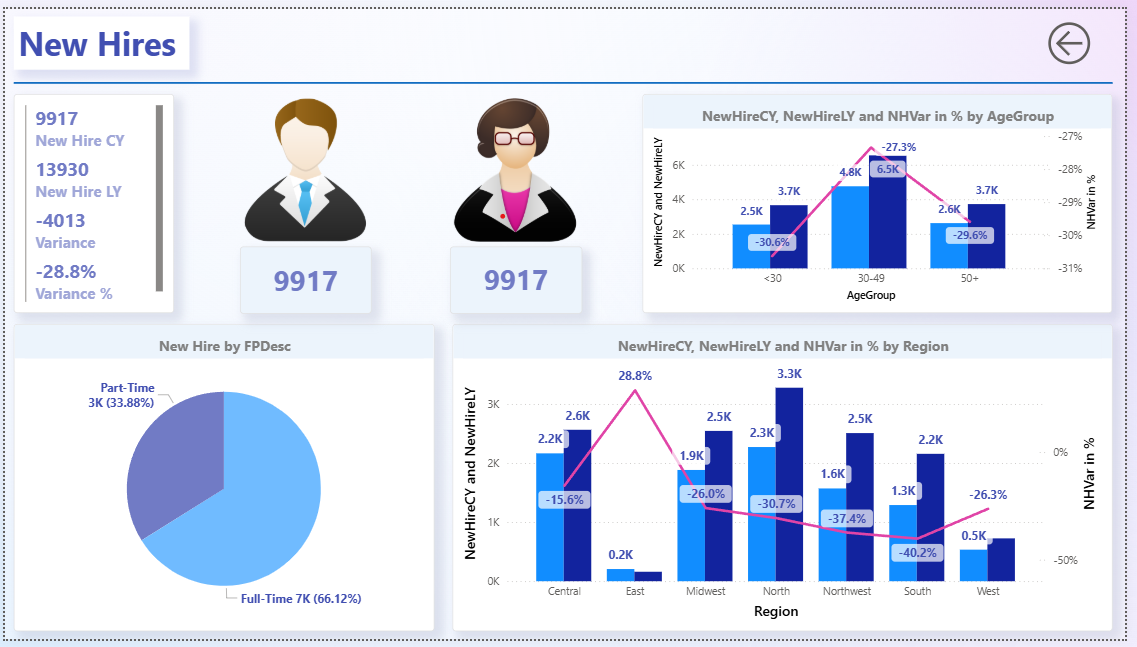

The page's visual inventory and layout, read from the dashboard file:
{"tool":"powerbi","page":{"name":"New Hires","canvas":[1280,720],"ordinal":1},"visuals":[{"type":"textbox","box":[9.8,8.6,200.5,61.1],"z":0},{"type":"shape","box":[9.8,59.9,1255.8,48.9],"z":1000},{"type":"actionButton","box":[1186.1,8.6,79.5,61.1],"z":2000},{"type":"multiRowCard","fields":{"Values":["All_Measure.NewHireCY","All_Measure.NewHireLY","All_Measure.NewHireVar","All_Measure.NHVar in %"]},"box":[9.8,97.8,183.4,250.7],"z":3000},{"type":"pieChart","title":"New Hire by FPDesc","fields":{"Y":["All_Measure.NewHireCY"],"Category":["JobType.FPDesc"]},"box":[9.8,359.5,480.6,351],"z":4000},{"type":"lineClusteredColumnComboChart","fields":{"Y":["All_Measure.NewHireCY","All_Measure.NewHireLY"],"Y2":["All_Measure.NHVar in %"],"Category":["RegionMapping.Region"]},"box":[511.1,359.5,754.5,351],"z":5000},{"type":"lineClusteredColumnComboChart","fields":{"Y":["All_Measure.NewHireCY","All_Measure.NewHireLY"],"Y2":["All_Measure.NHVar in %"],"Category":["AgeGroup.AgeGroup"]},"box":[728.8,97.8,536.8,250.7],"z":6000},{"type":"image","box":[250.7,97.8,187.1,173.6],"z":7000},{"type":"image","box":[490.4,97.8,187.1,173.6],"z":8000},{"type":"card","fields":{"Values":["All_Measure.NewHireCY"]},"box":[269,271.5,150.4,77],"z":9000},{"type":"card","fields":{"Values":["All_Measure.NewHireCY"]},"box":[509.1,271.7,150.9,76.8],"z":10000}]}

Visuals, with their boxes in screenshot pixels (x1, y1, x2, y2), scaled from the page's 1280x720 canvas onto the 1137x647 screenshot:
textbox: [left=9, top=8, right=187, bottom=63]
shape: [left=9, top=54, right=1124, bottom=98]
actionButton: [left=1054, top=8, right=1124, bottom=63]
multiRowCard - All_Measure.NewHireCY x All_Measure.NewHireLY: [left=9, top=88, right=172, bottom=313]
"New Hire by FPDesc" pieChart: [left=9, top=323, right=436, bottom=638]
lineClusteredColumnComboChart - All_Measure.NewHireCY x All_Measure.NewHireLY: [left=454, top=323, right=1124, bottom=638]
lineClusteredColumnComboChart - All_Measure.NewHireCY x All_Measure.NewHireLY: [left=647, top=88, right=1124, bottom=313]
image: [left=223, top=88, right=389, bottom=244]
image: [left=436, top=88, right=602, bottom=244]
card - All_Measure.NewHireCY: [left=239, top=244, right=373, bottom=313]
card - All_Measure.NewHireCY: [left=452, top=244, right=586, bottom=313]
